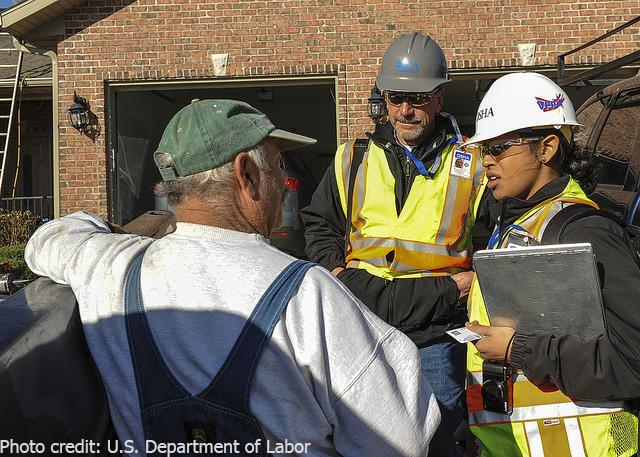helmet: (152, 102, 278, 186), (465, 73, 580, 150), (377, 34, 449, 95)
